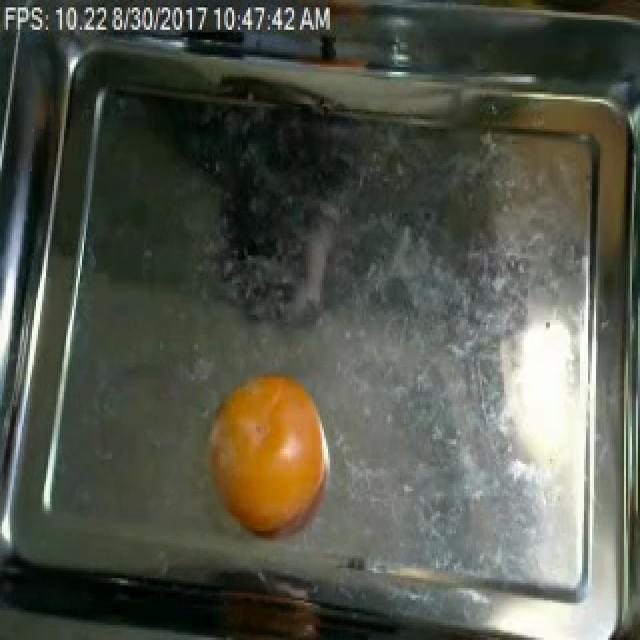Fruit: (196, 364, 340, 546)
